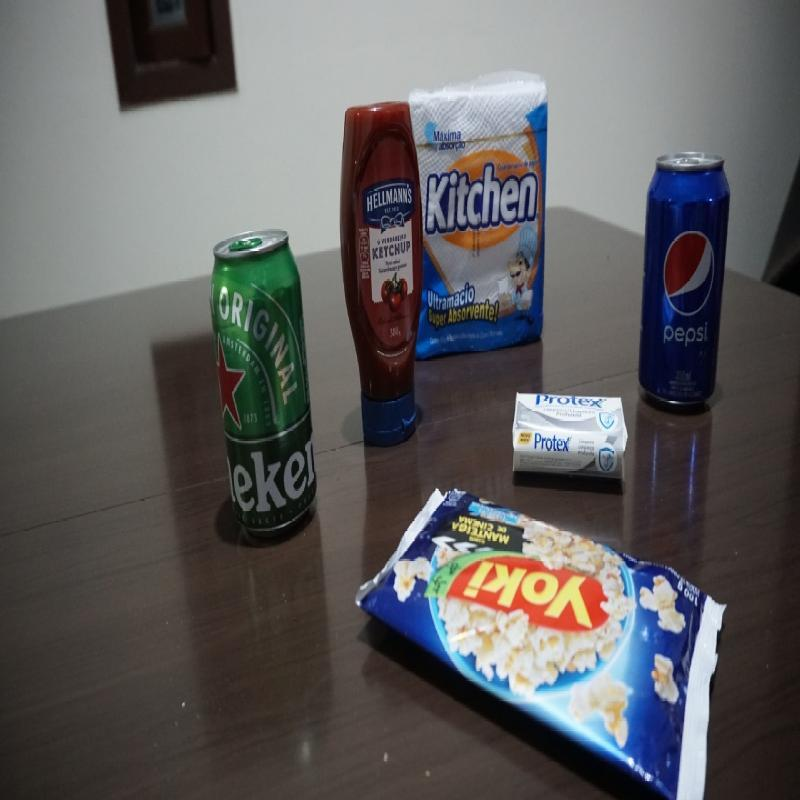Beer can: (207, 227, 319, 550)
Ketchup: (338, 97, 428, 452)
Napkin: (410, 70, 552, 359)
Popcorn: (355, 487, 726, 796)
Soap: (506, 388, 628, 482)
Soda can: (634, 148, 732, 420)
